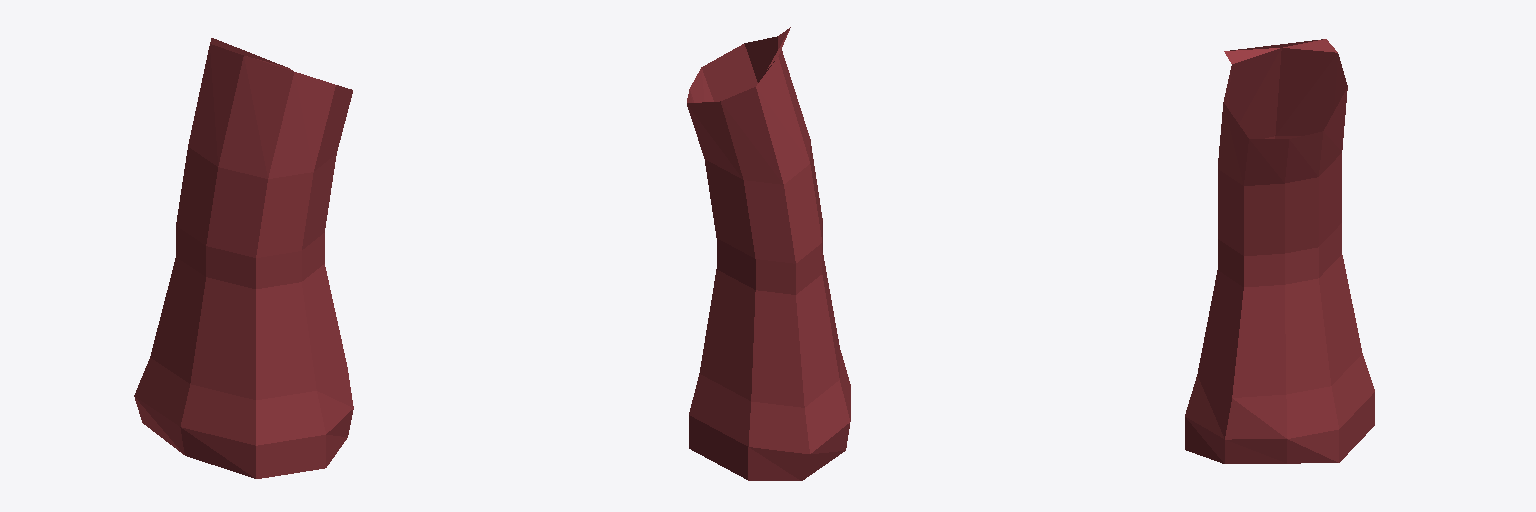
Rendered from littlebig-rightleg.obj.
3 views of the same model, side by side, from view 1: azimuth 30°, elevation 25°; view 2: azimuth 150°, elevation 25°; view 3: azimuth 270°, elevation 25° (orthographic).
Parts seen in each view (by area): view 1: Circle; view 2: Circle; view 3: Circle.
Part boxes in pixels (left/top/right/bottom): Circle: left=134, top=38, right=353, bottom=478; Circle: left=687, top=27, right=850, bottom=480; Circle: left=1185, top=39, right=1374, bottom=463.
Size of the model in its own units: 0.4785 by 1.16 by 0.4815.